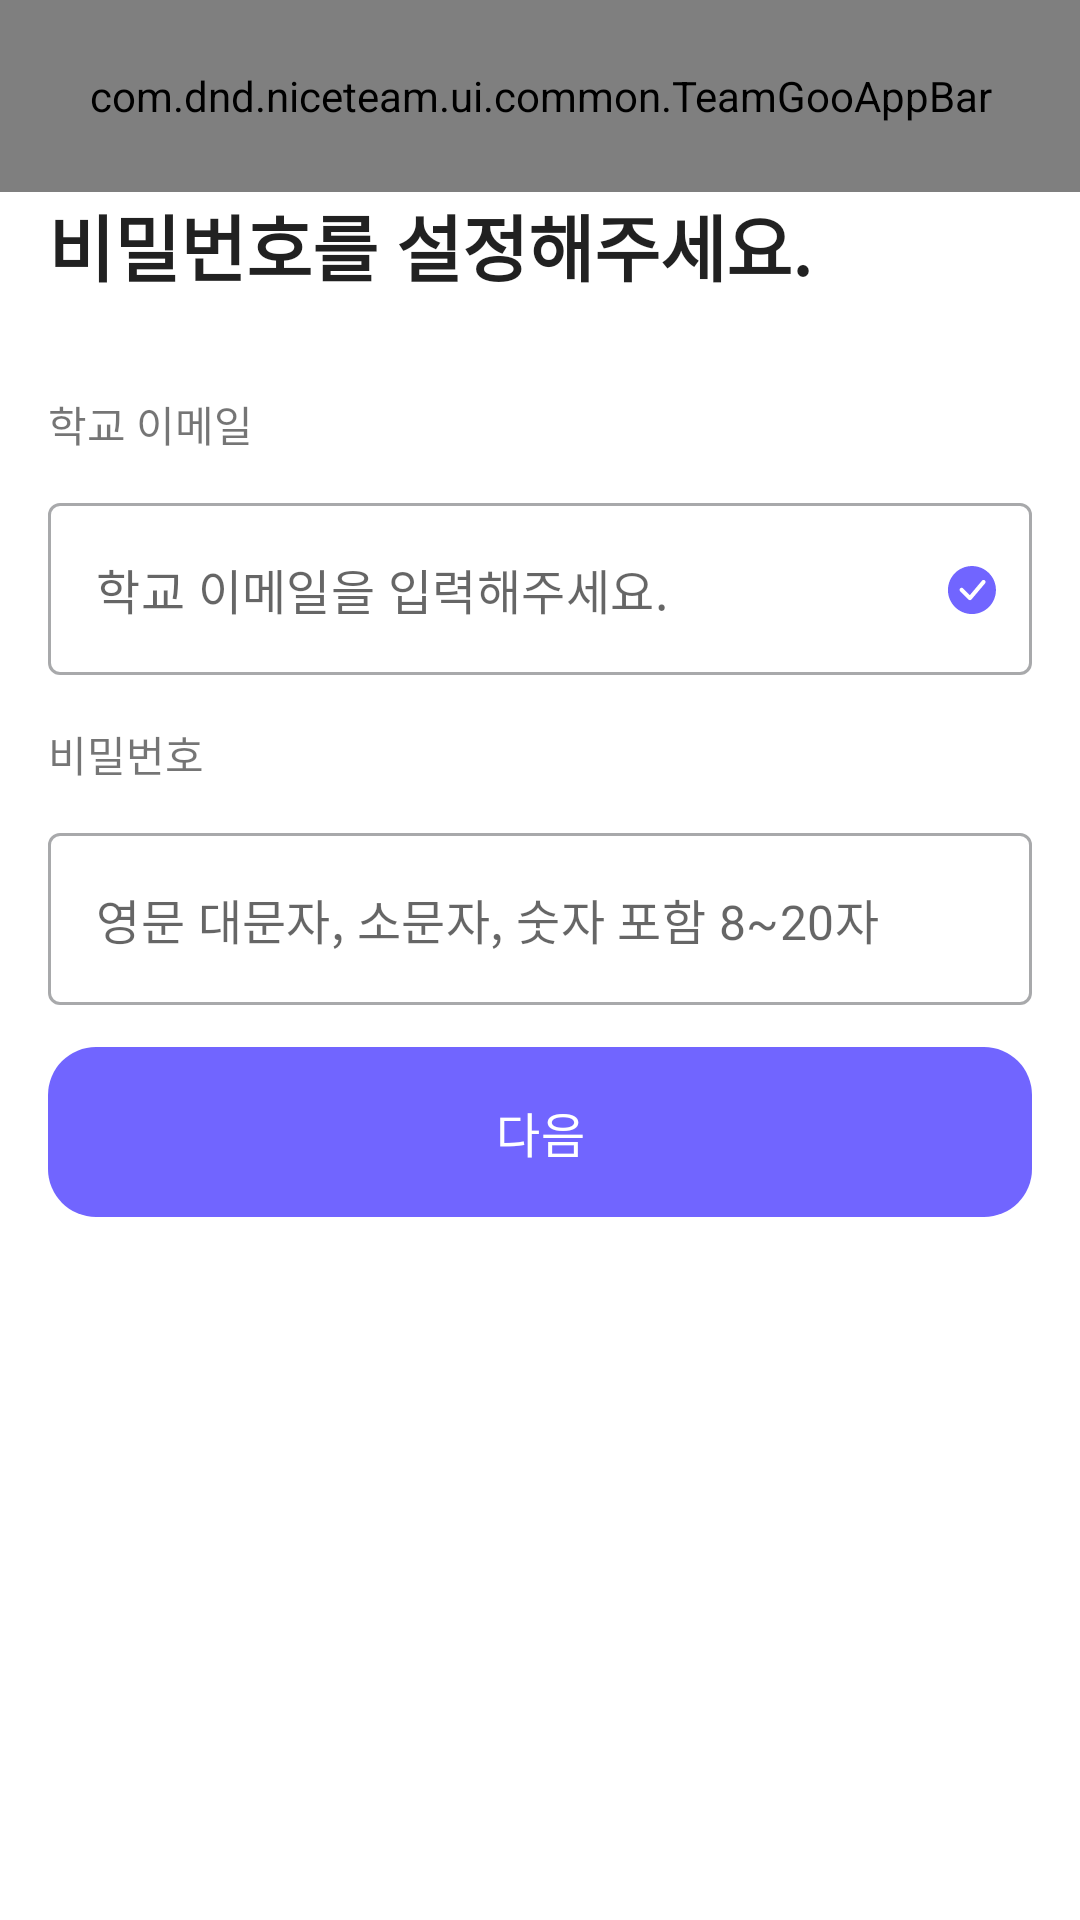

Screen size 1080*1920. Icon name, then its box in pixels as box=[x1, y1, x2, y2]:
check: box=[948, 566, 996, 614]
